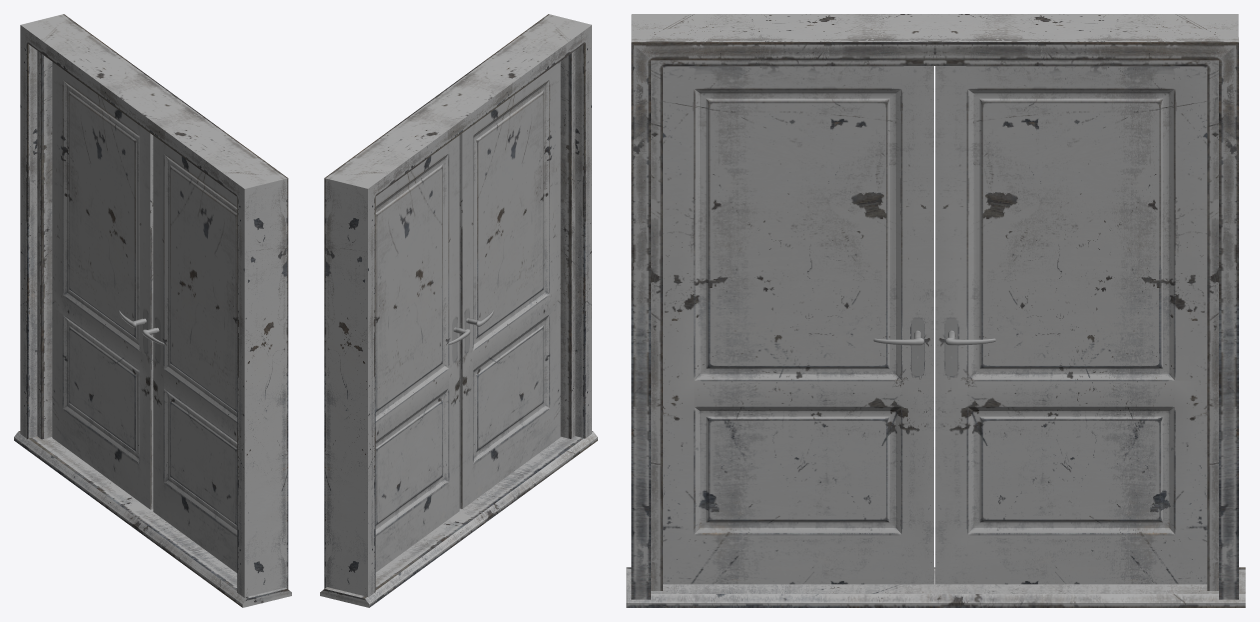
File: Prop_DoubleWoodenDoor.fbx
3 renders of one model, left to right at view 1: azimuth 30°, elevation 25°; view 2: azimuth 150°, elevation 25°; view 3: azimuth 270°, elevation 25°, orthographic. The views are drawn at different scales.
Parts seen in each view (by area): view 1: Border, Right_Door, Left_Door; view 2: Border, Left_Door, Right_Door; view 3: Right_Door, Left_Door, Border.
Boxes of the visible parts, box(x1,y1,x2,y2) form: Border: box(14, 14, 291, 607); Right_Door: box(52, 62, 153, 509); Left_Door: box(142, 135, 237, 572); Border: box(320, 14, 597, 607); Left_Door: box(459, 61, 560, 508); Right_Door: box(375, 135, 470, 572); Right_Door: box(935, 66, 1207, 584); Left_Door: box(663, 66, 933, 584); Border: box(626, 14, 1245, 607).
Size of the model in its own units: 11.81 by 95.59 by 95.07.
